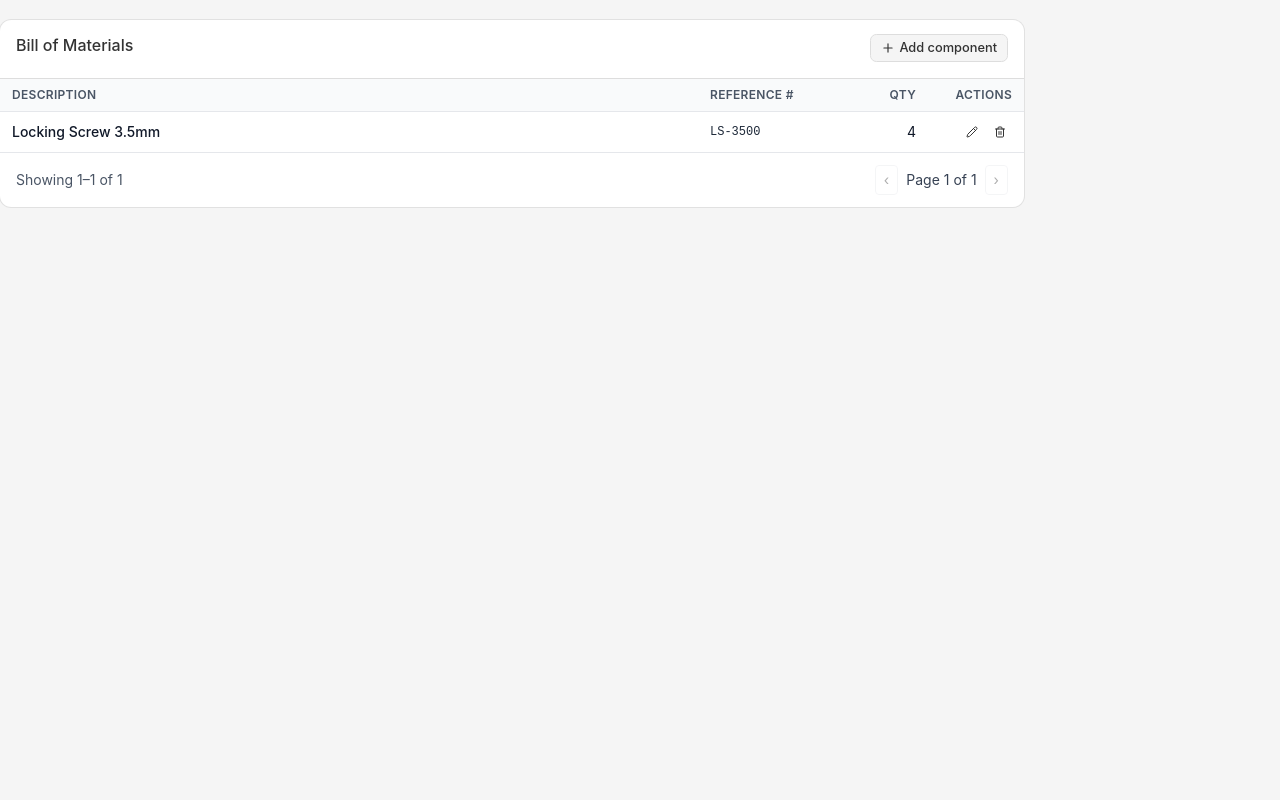
KitComponentsCard › removes a component and refetches
Check: the link "Locking Screw 3.5mm" is shown, box [12,123,160,140]
Click the button named "Remove Locking Screw 3.5mm from this kit" at (1000, 132), box [988,120,1012,144]
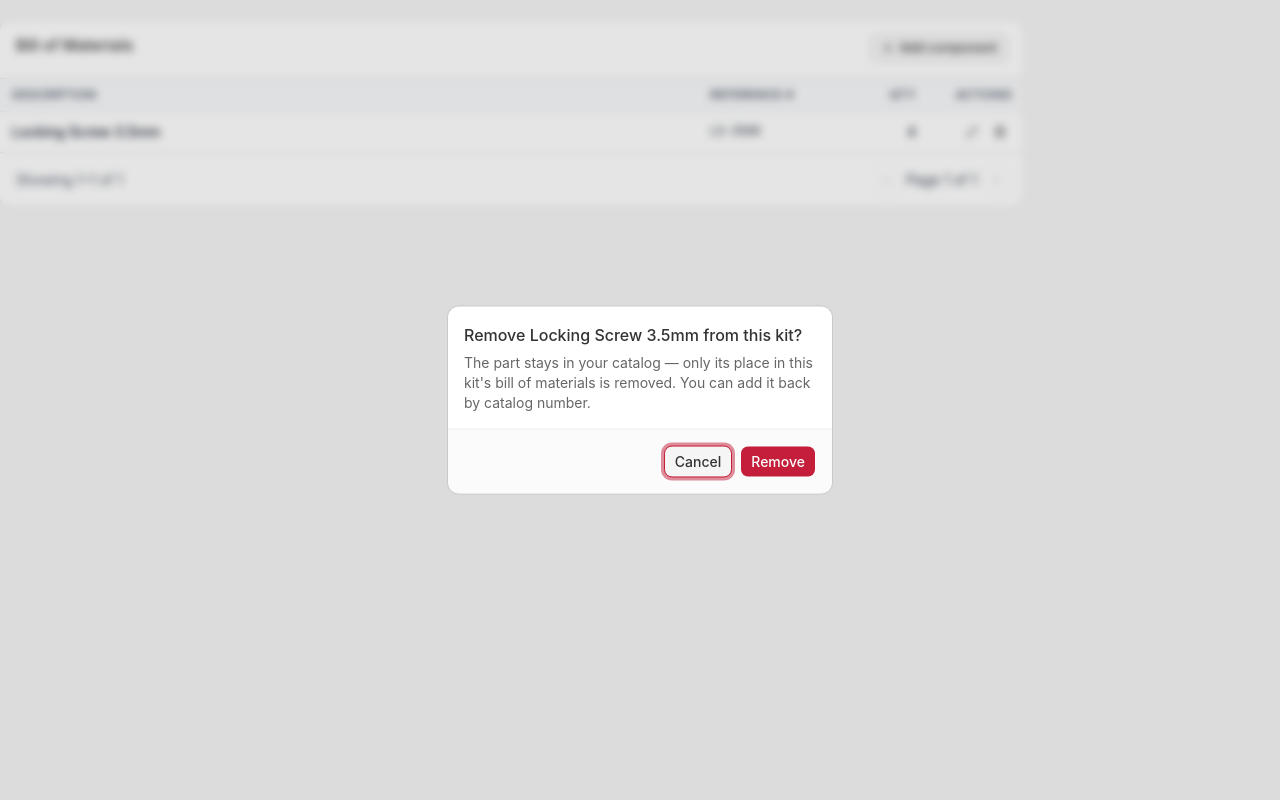
Click the button "Remove" at (778, 462), box [740,446,816,478]
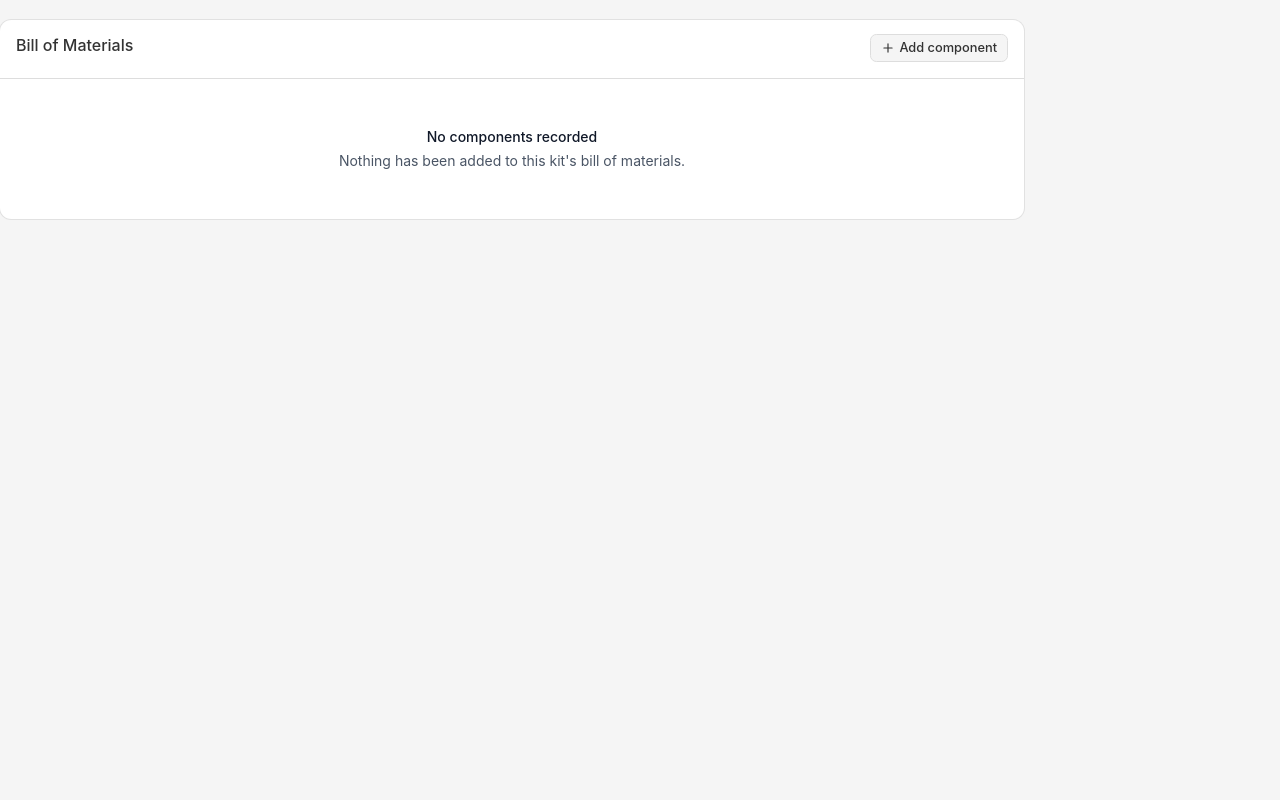
Check: the text "No components recorded" is shown, box [427,128,597,145]
